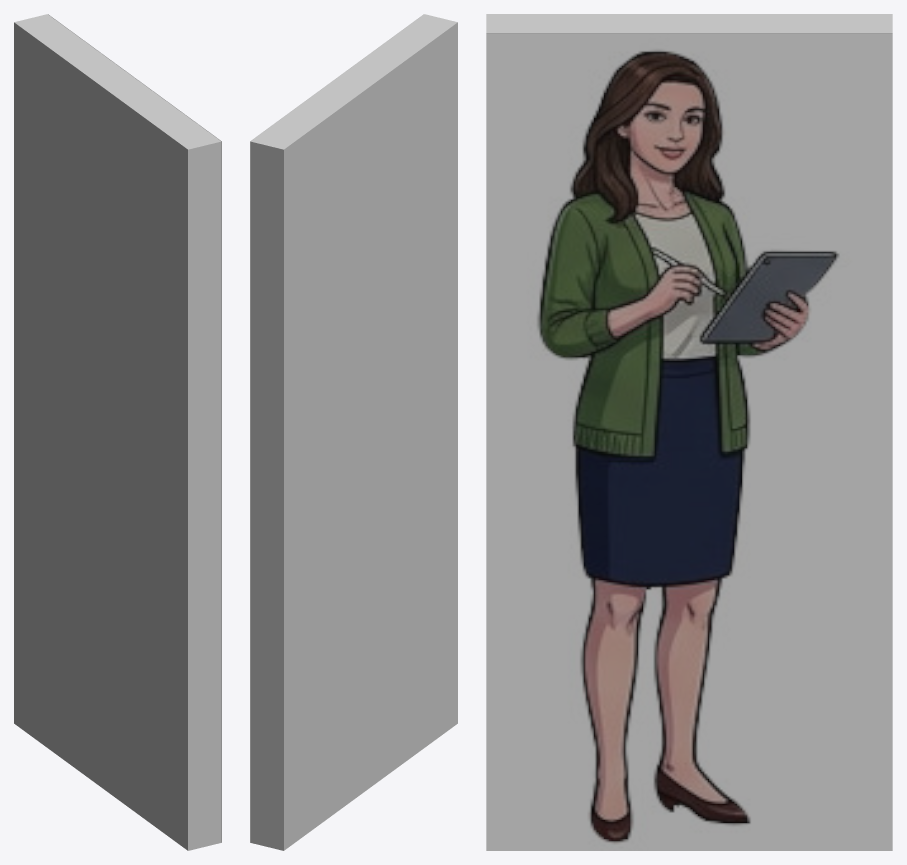
3 renders of one model, left to right at view 1: azimuth 30°, elevation 25°; view 2: azimuth 150°, elevation 25°; view 3: azimuth 270°, elevation 25°, orthographic. The views are drawn at different scales.
Visible parts, largest first — view 1: 立方体, 平面; view 2: 立方体, 平面; view 3: 平面, 立方体.
Boxes of the visible parts, x1,y1,x2,y2 form: 立方体: [14, 14, 221, 850]; 平面: [48, 14, 221, 842]; 立方体: [250, 14, 457, 850]; 平面: [250, 14, 423, 842]; 平面: [486, 33, 892, 850]; 立方体: [486, 14, 892, 33].
Size of the model in its own units: 0.0101 by 0.09 by 0.2.
Materials: 1 (1 with a texture image).
